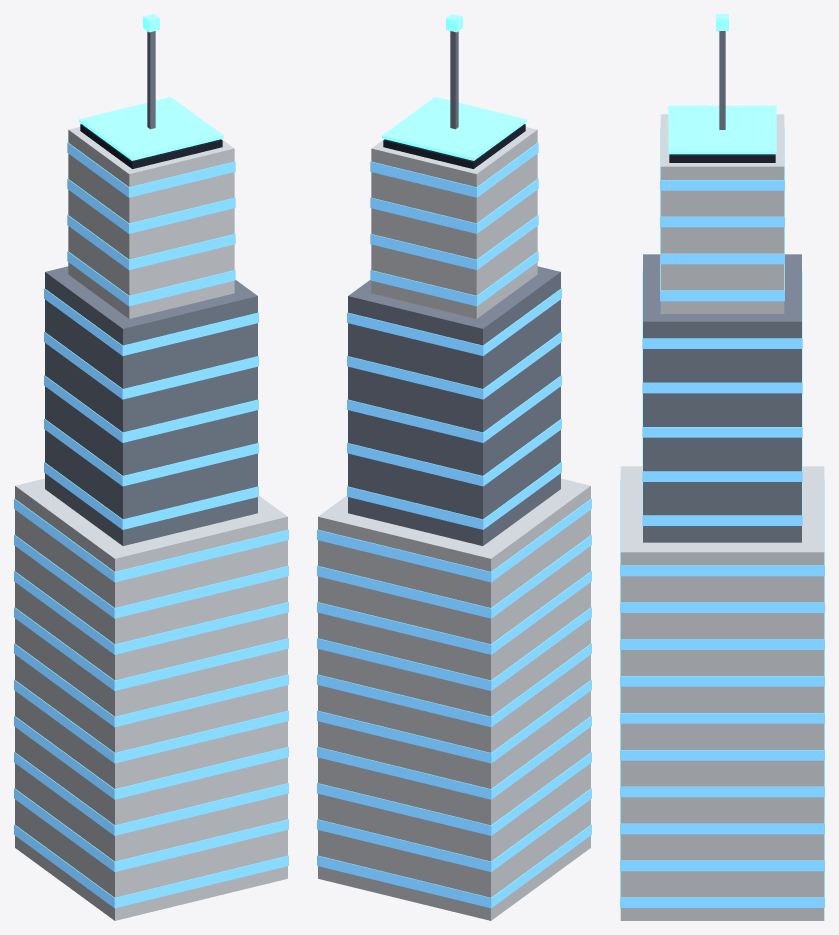
The model's file is sky_tower.glb.
3 renders of one model, left to right at view 1: azimuth 30°, elevation 25°; view 2: azimuth 150°, elevation 25°; view 3: azimuth 270°, elevation 25°, orthographic.
Visible parts, largest first — view 1: LOD0; view 2: LOD0; view 3: LOD0.
Part boxes in pixels (x1,y1,x2,y2): LOD0: (14,14,288,920); LOD0: (317,14,591,920); LOD0: (620,14,824,920).
Size of what is drawn, in the model's own units: 16.12 by 74.74 by 16.12.
